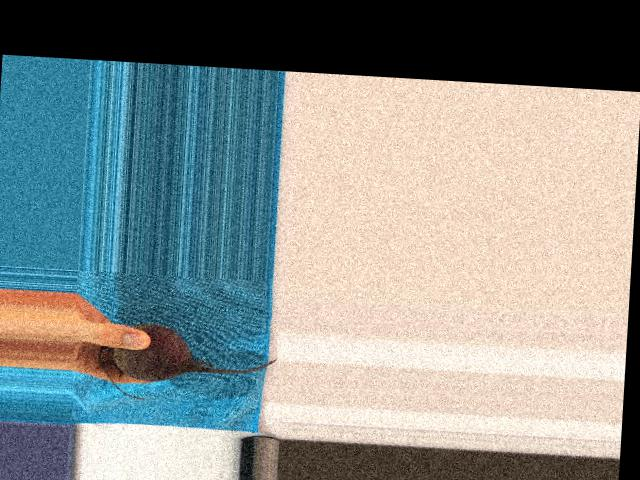beet: (96, 320, 279, 406)
